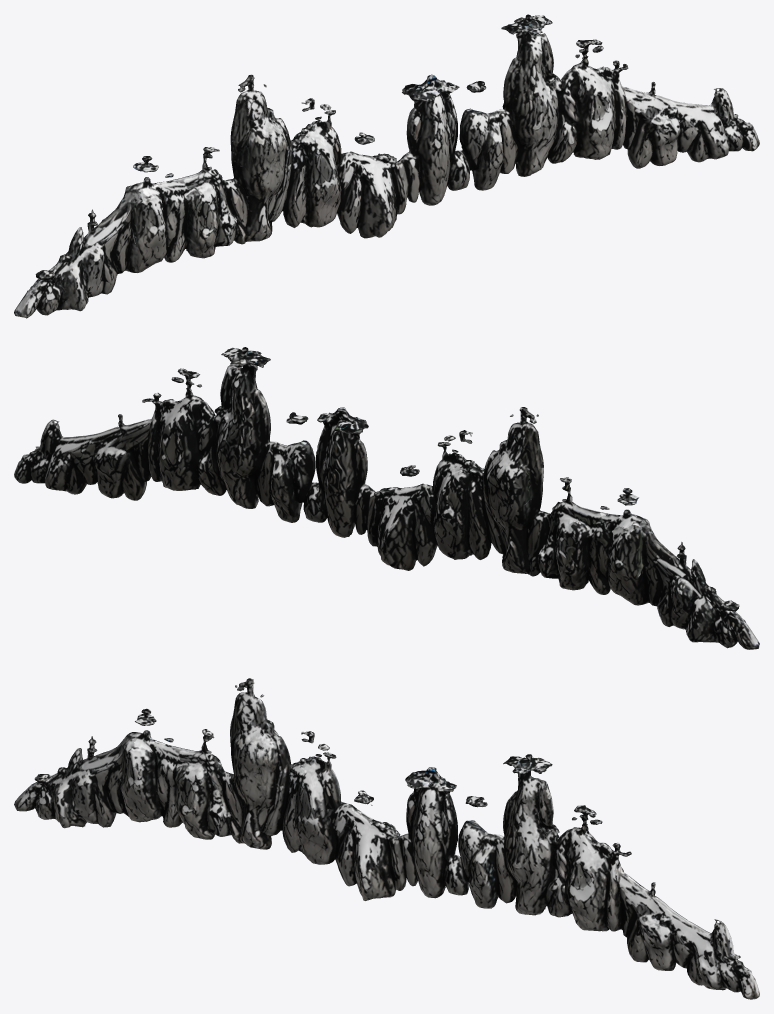
Rendered from InkPart08_LowRidge.fbx.
3 renders of one model, top to bottom at view 1: azimuth 30°, elevation 25°; view 2: azimuth 150°, elevation 25°; view 3: azimuth 330°, elevation 25°, orthographic.
Visible parts, largest first — view 1: texture_mapping; view 2: texture_mapping; view 3: texture_mapping.
Part boxes in pixels (<box>): texture_mapping: <box>14,14,759,318</box>; texture_mapping: <box>14,347,759,649</box>; texture_mapping: <box>14,678,759,999</box>.
Size of the model in its own units: 1 by 0.0582 by 0.2532.
1 material, 1 textured.
